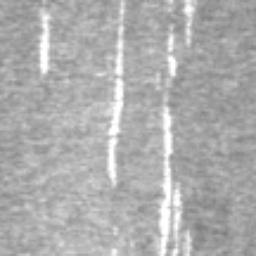White rust: (156, 91, 184, 256), (105, 0, 127, 188), (38, 0, 54, 75), (182, 0, 196, 48), (167, 24, 179, 77), (183, 229, 193, 256), (156, 70, 161, 89)
